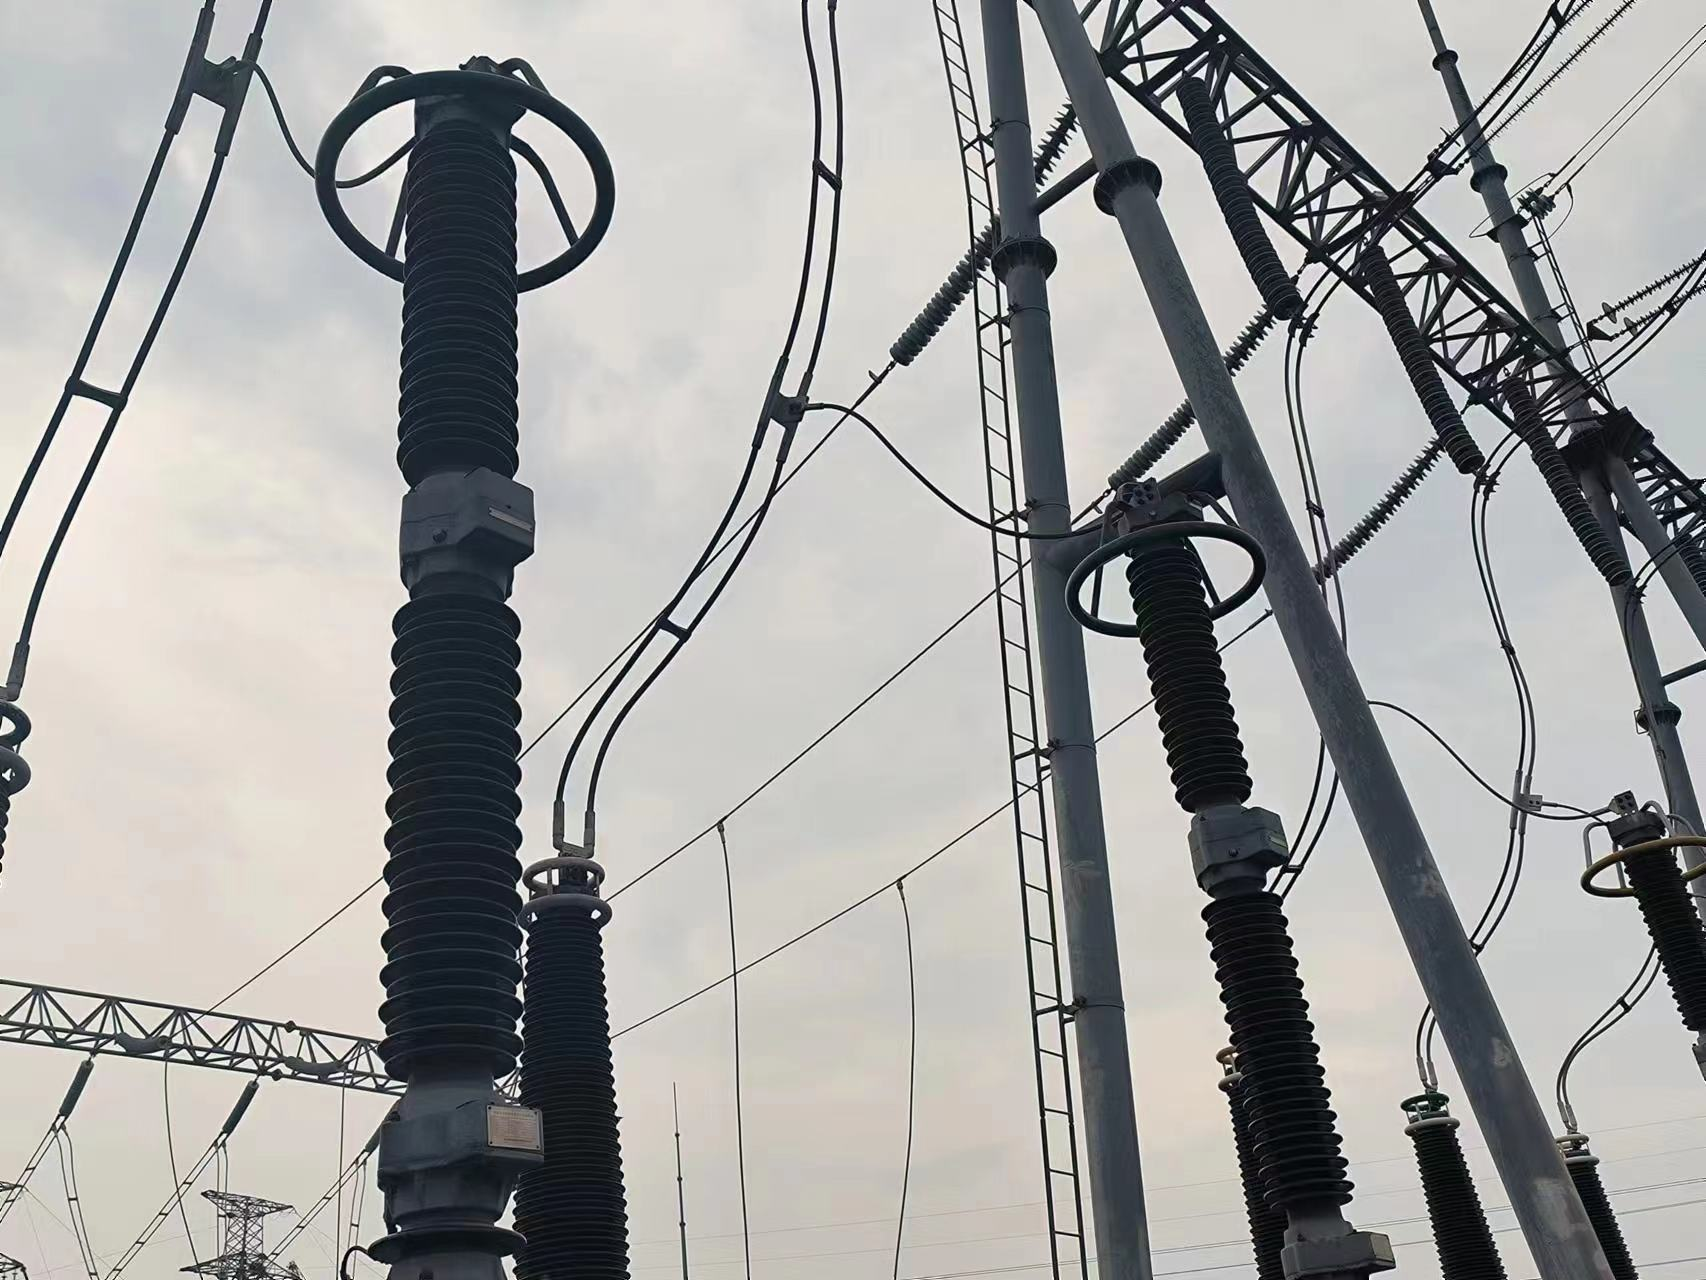Arrester: (309, 51, 618, 1250), (1067, 479, 1391, 1275)
Voltage transformer: (512, 854, 635, 1279)
